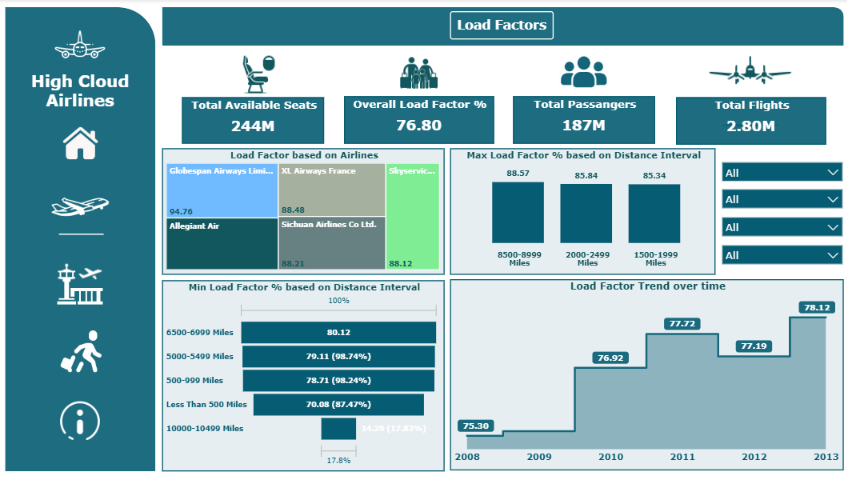

The dashboard page shown, as its layout file describes it:
{"tool":"powerbi","page":{"name":"Load Factors","canvas":[1280,720],"ordinal":4},"visuals":[{"type":"shape","box":[248.2,12.2,1021.1,57.5],"z":0},{"type":"treemap","title":"Load Factor based on Airlines","fields":{"Group":["Fact_Airline_Data.Carrier Name"],"Values":["KPI_Measures.Load_Factor_%"]},"box":[248.2,222.6,423.1,189.5],"z":1000},{"type":"areaChart","title":"Load Factor Trend over time","fields":{"Y":["KPI_Measures.Load_Factor_%"],"Category":["CalanderTable.Date.Variation.Date Hierarchy.Year","CalanderTable.Date.Variation.Date Hierarchy.Quarter","CalanderTable.Date.Variation.Date Hierarchy.Month","CalanderTable.Date.Variation.Date Hierarchy.Day"]},"box":[679.9,419.4,589.4,286.1],"z":2000},{"type":"textbox","box":[679.4,18.1,155.5,42.3],"z":3000},{"type":"funnel","title":"Min Load Factor % based on Distance Interval","fields":{"Category":["Distance Groups.Distance Interval"],"Y":["KPI_Measures.Load_Factor_%"]},"box":[248.2,420.7,423.1,286.1],"z":4000},{"type":"shape","box":[13.6,12.2,225.4,695.1],"z":5000},{"type":"image","box":[86.3,182.9,79.5,70.1],"z":6000},{"type":"image","box":[59.3,275.9,133.4,88.9],"z":7000},{"type":"image","box":[79.5,387.8,93,75.5],"z":8000},{"type":"image","box":[80.9,490.2,91.6,75.5],"z":9000},{"type":"image","box":[91.6,598.4,68.7,66],"z":10000},{"type":"textbox","box":[13.5,103.8,225.1,78.2],"z":11000},{"type":"image","box":[33.7,32.3,186,75.5],"z":12000},{"type":"image","box":[333.2,81.5,122.3,60.4],"z":13000},{"type":"image","box":[823.9,83,113.2,51.3],"z":14000},{"type":"image","box":[1028.7,64.9,203.8,125.3],"z":15000},{"type":"card","title":"Total Passangers","fields":{"Values":["KPI_Measures.Total_Flights"]},"box":[774.1,145.5,212.8,70.9],"z":16000},{"type":"card","title":"Total Available Seats","fields":{"Values":["KPI_Measures.Total_Available_Seats"]},"box":[278.8,146.5,212.9,69.5],"z":17000},{"type":"card","title":"Total Flights","fields":{"Values":["KPI_Measures.Total_Flights"]},"box":[1018.6,146.7,225,70.9],"z":18000},{"type":"card","title":"Overall Load Factor %","fields":{"Values":["KPI_Measures.Load_Factor_%"]},"box":[520.9,145.5,225,70.9],"z":19000},{"type":"image","box":[576.3,83,113.2,55.9],"z":20000},{"type":"slicer","fields":{"Values":["CalanderTable.Date.Variation.Date Hierarchy.Year"]},"box":[1076.1,316.5,200.8,51.3],"z":21000},{"type":"slicer","title":"Country","fields":{"Values":["Fact_Airline_Data.Origin Country"]},"box":[1076.1,233.5,200.8,51.3],"z":22000},{"type":"slicer","fields":{"Values":["Fact_Airline_Data.Carrier Name"]},"box":[1076.1,274.2,200.8,51.3],"z":23000},{"type":"slicer","fields":{"Values":["CalanderTable.Date.Variation.Date Hierarchy.Month"]},"box":[1076.1,357.3,200.8,51.3],"z":24000},{"type":"clusteredColumnChart","title":"Max Load Factor % based on Distance Interval","fields":{"Category":["Distance Groups.Distance Interval"],"Y":["KPI_Measures.Load_Factor_%"]},"box":[679.9,222.6,397.4,189.5],"z":25000}]}

Visuals, with their boxes in screenshot pixels (x1, y1, x2, y2), scaled from the page's 1280x720 canvas onto the 847x477 screenshot:
shape: BBox(164, 8, 840, 46)
"Load Factor based on Airlines" treemap: BBox(164, 147, 444, 273)
"Load Factor Trend over time" areaChart: BBox(450, 278, 840, 467)
textbox: BBox(450, 12, 552, 40)
"Min Load Factor % based on Distance Interval" funnel: BBox(164, 279, 444, 468)
shape: BBox(9, 8, 158, 469)
image: BBox(57, 121, 110, 168)
image: BBox(39, 183, 128, 242)
image: BBox(53, 257, 114, 307)
image: BBox(54, 325, 114, 375)
image: BBox(61, 396, 106, 440)
textbox: BBox(9, 69, 158, 121)
image: BBox(22, 21, 145, 71)
image: BBox(220, 54, 301, 94)
image: BBox(545, 55, 620, 89)
image: BBox(681, 43, 816, 126)
"Total Passangers" card: BBox(512, 96, 653, 143)
"Total Available Seats" card: BBox(184, 97, 325, 143)
"Total Flights" card: BBox(674, 97, 823, 144)
"Overall Load Factor %" card: BBox(345, 96, 494, 143)
image: BBox(381, 55, 456, 92)
slicer - CalanderTable.Date.Variation.Date Hierarchy.Year: BBox(712, 210, 845, 244)
"Country" slicer: BBox(712, 155, 845, 189)
slicer - Fact_Airline_Data.Carrier Name: BBox(712, 182, 845, 216)
slicer - CalanderTable.Date.Variation.Date Hierarchy.Month: BBox(712, 237, 845, 271)
"Max Load Factor % based on Distance Interval" clusteredColumnChart: BBox(450, 147, 713, 273)
